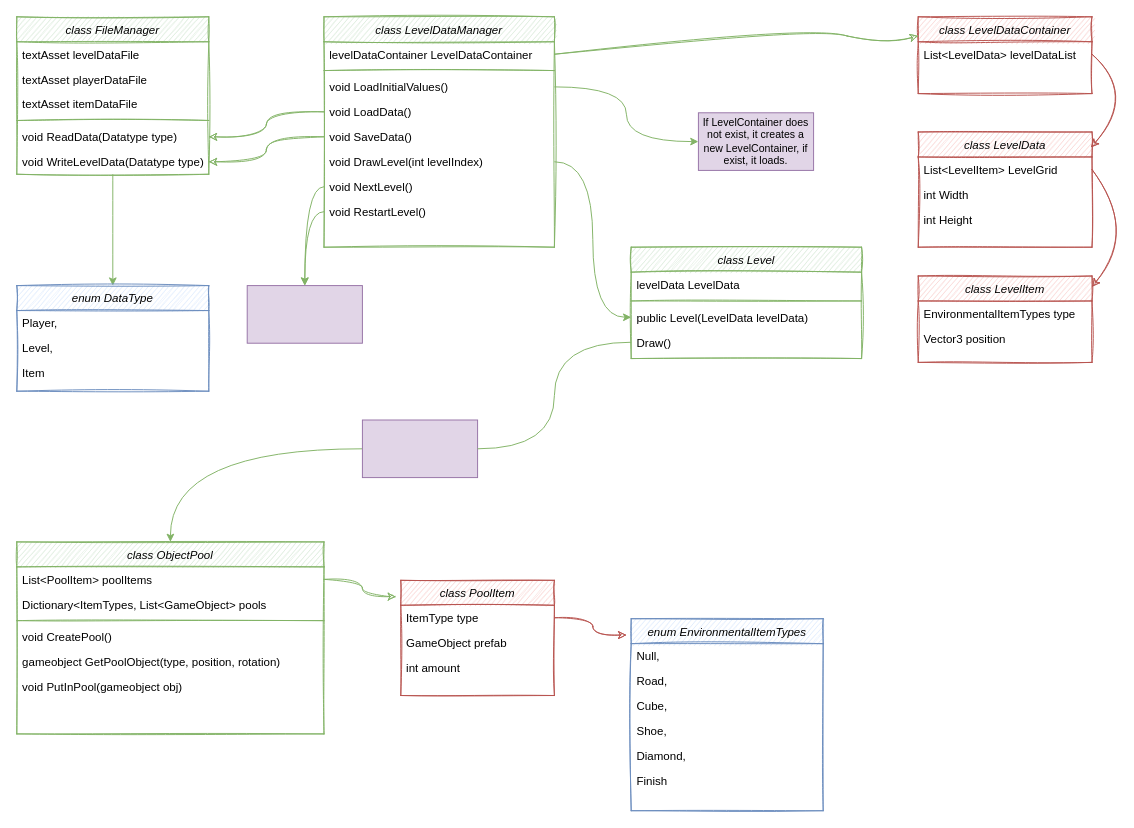
The diagram is 1134 pixels wide and 828 high, and some of its shapes have lost their labels. The centre of each missing label's shape, as x and y in pixels:
Creates objects with the help of object pool: pixel 419 448
Reloads the scene: pixel 304 314
